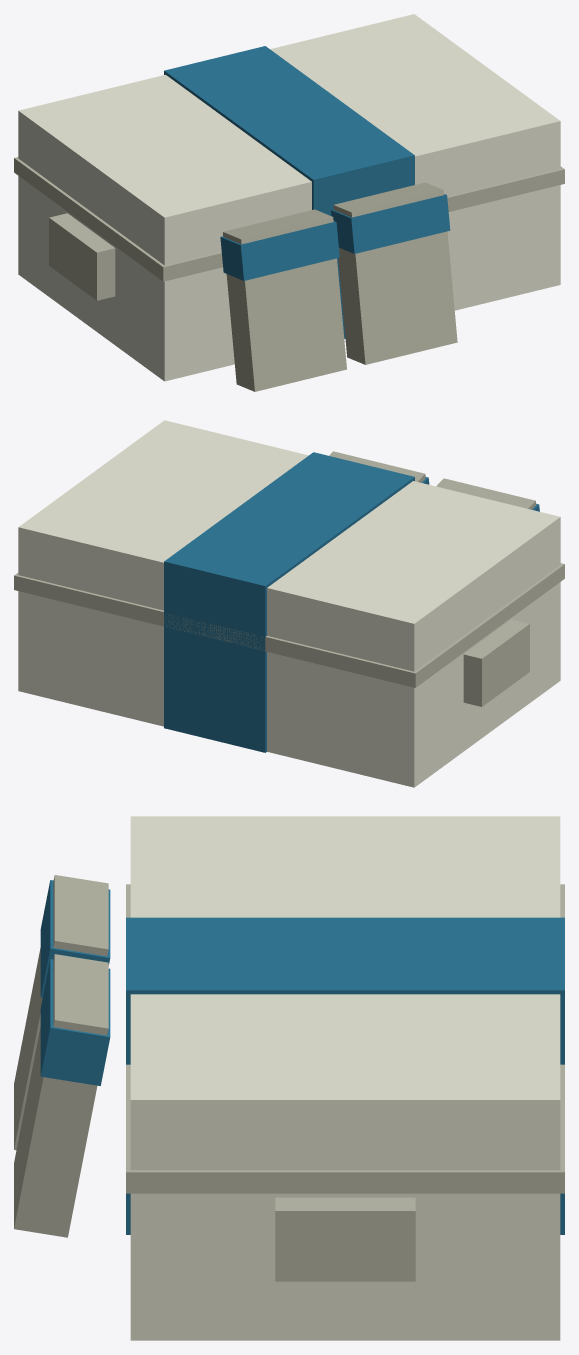
File: ce_ammo_chmag_ion_c.obj
The picture shows the model from 3 angles, top to bottom: view 1: azimuth 30°, elevation 25°; view 2: azimuth 150°, elevation 25°; view 3: azimuth 270°, elevation 25°; orthographic projection. The views are drawn at different scales.
Parts seen in each view (by area): view 1: ce_ammo_chmag_ion_c_0, ce_ammo_chmag_ion_c_1, ce_ammo_chmag_ion_c_5, ce_ammo_chmag_ion_c_7, ce_ammo_chmag_ion_c_2, ce_ammo_chmag_ion_c_6, ce_ammo_chmag_ion_c_8, ce_ammo_chmag_ion_c_3; view 2: ce_ammo_chmag_ion_c_0, ce_ammo_chmag_ion_c_1, ce_ammo_chmag_ion_c_2, ce_ammo_chmag_ion_c_3, ce_ammo_chmag_ion_c_5, ce_ammo_chmag_ion_c_7; view 3: ce_ammo_chmag_ion_c_0, ce_ammo_chmag_ion_c_1, ce_ammo_chmag_ion_c_7, ce_ammo_chmag_ion_c_4, ce_ammo_chmag_ion_c_2, ce_ammo_chmag_ion_c_5, ce_ammo_chmag_ion_c_8, ce_ammo_chmag_ion_c_6.
Boxes of the visible parts, <box> form: ce_ammo_chmag_ion_c_0: <box>18,14,560,381</box>; ce_ammo_chmag_ion_c_1: <box>164,46,414,338</box>; ce_ammo_chmag_ion_c_5: <box>223,209,346,391</box>; ce_ammo_chmag_ion_c_7: <box>333,182,457,364</box>; ce_ammo_chmag_ion_c_2: <box>14,157,564,281</box>; ce_ammo_chmag_ion_c_6: <box>220,221,339,280</box>; ce_ammo_chmag_ion_c_8: <box>331,194,450,253</box>; ce_ammo_chmag_ion_c_3: <box>49,213,115,300</box>; ce_ammo_chmag_ion_c_0: <box>18,420,560,787</box>; ce_ammo_chmag_ion_c_1: <box>164,452,414,752</box>; ce_ammo_chmag_ion_c_2: <box>14,563,564,687</box>; ce_ammo_chmag_ion_c_3: <box>463,619,529,706</box>; ce_ammo_chmag_ion_c_5: <box>436,478,536,509</box>; ce_ammo_chmag_ion_c_7: <box>329,451,425,482</box>; ce_ammo_chmag_ion_c_0: <box>130,816,560,1340</box>; ce_ammo_chmag_ion_c_1: <box>126,917,564,1234</box>; ce_ammo_chmag_ion_c_7: <box>14,954,108,1237</box>; ce_ammo_chmag_ion_c_4: <box>275,1197,415,1281</box>; ce_ammo_chmag_ion_c_2: <box>126,884,564,1193</box>; ce_ammo_chmag_ion_c_5: <box>14,875,108,1150</box>; ce_ammo_chmag_ion_c_8: <box>40,959,110,1085</box>; ce_ammo_chmag_ion_c_6: <box>40,880,110,997</box>.
Size of the model in its own units: 0.94 by 0.346 by 0.7055.
